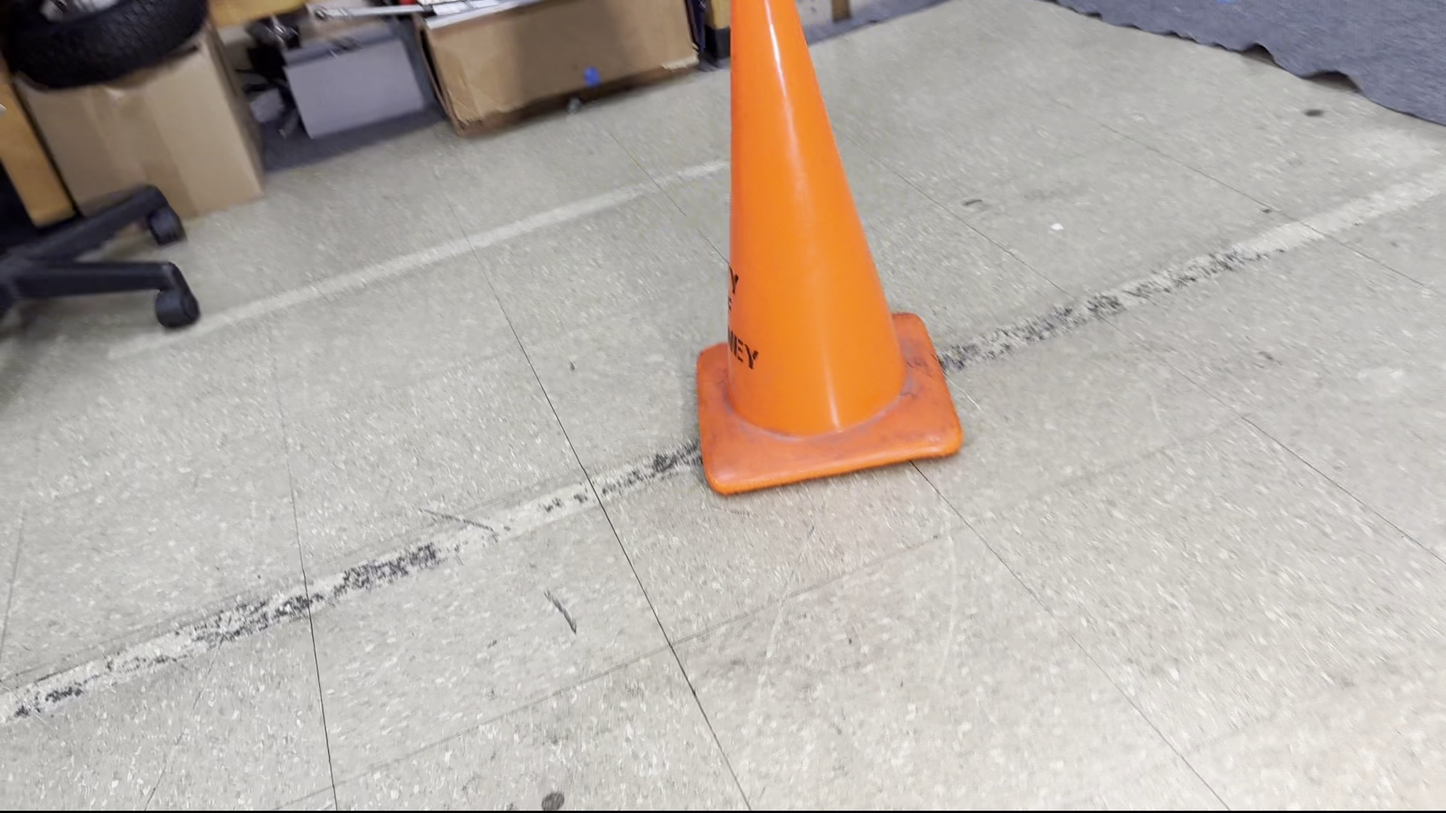traffic_cone: (694, 0, 964, 496)
